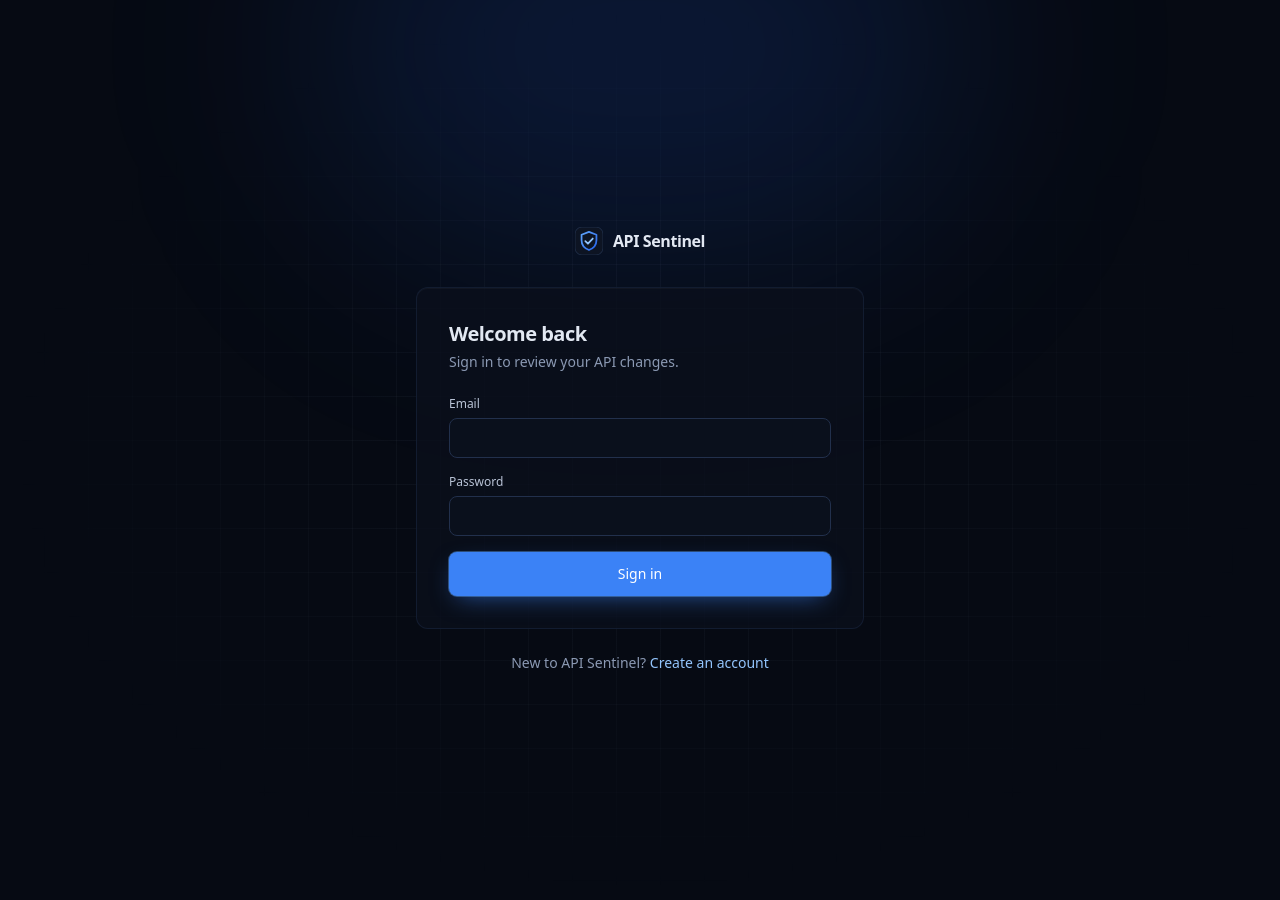
it: authentication flow › logs in, stores the session in sessionStorage and shows the dashboard
Step 1. Type " ada@example.com " into the field labelled "Email" → (640,438), box [449, 418, 831, 458]
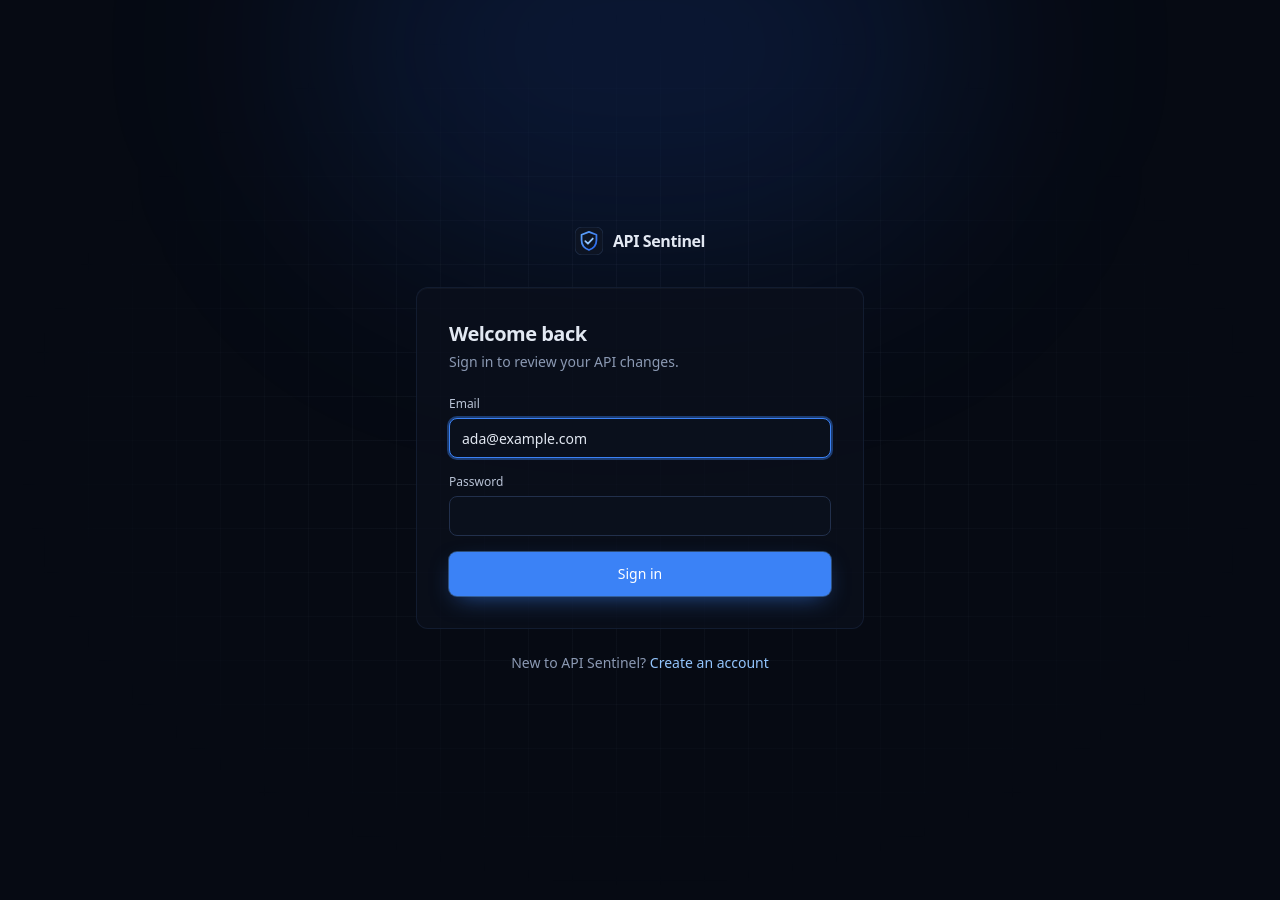
Step 2. Type "Correct-horse-9" into the password field labelled "Password" → (640,516), box [449, 496, 831, 536]
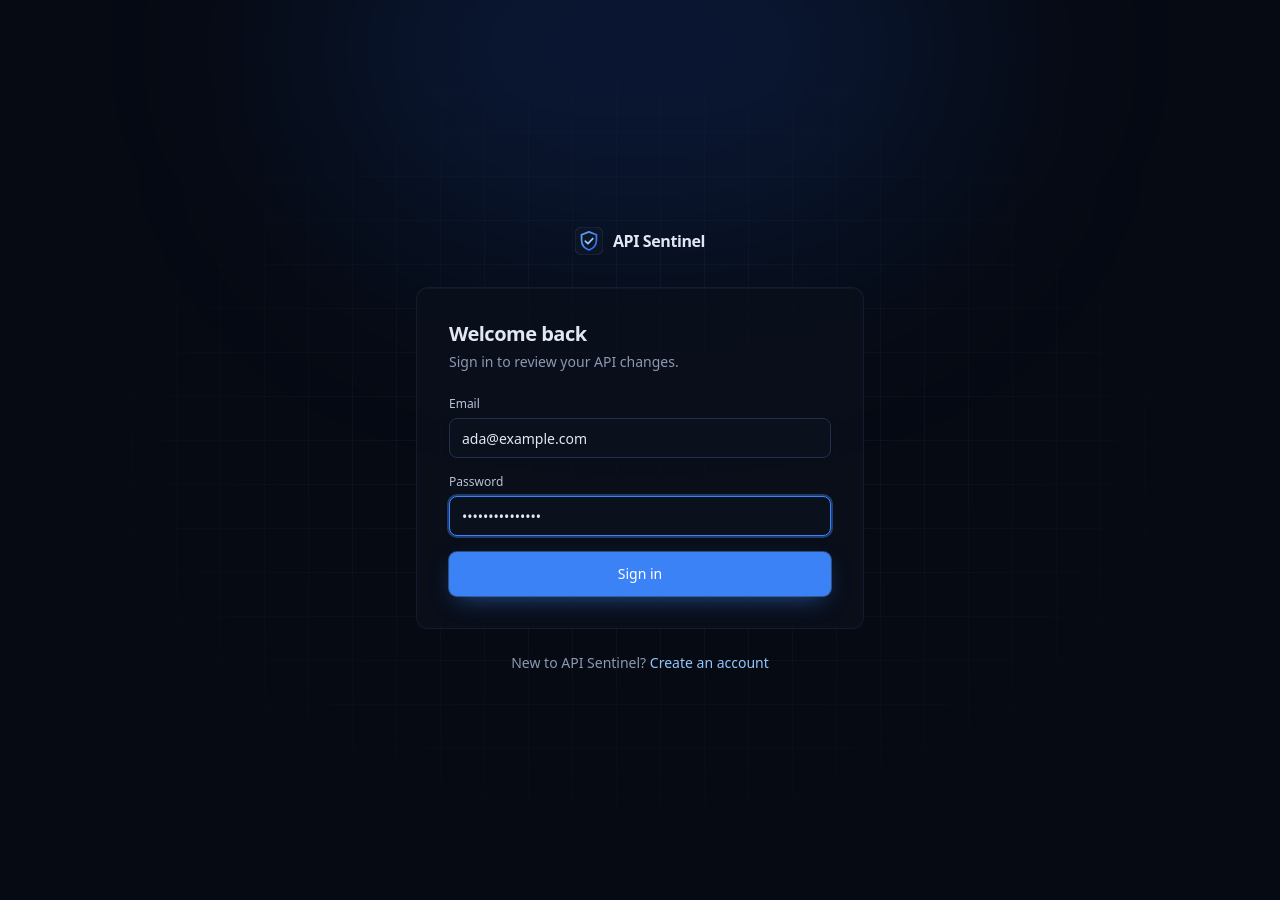
Step 3. Click the button "Sign in" → (640,574), box [449, 552, 831, 596]
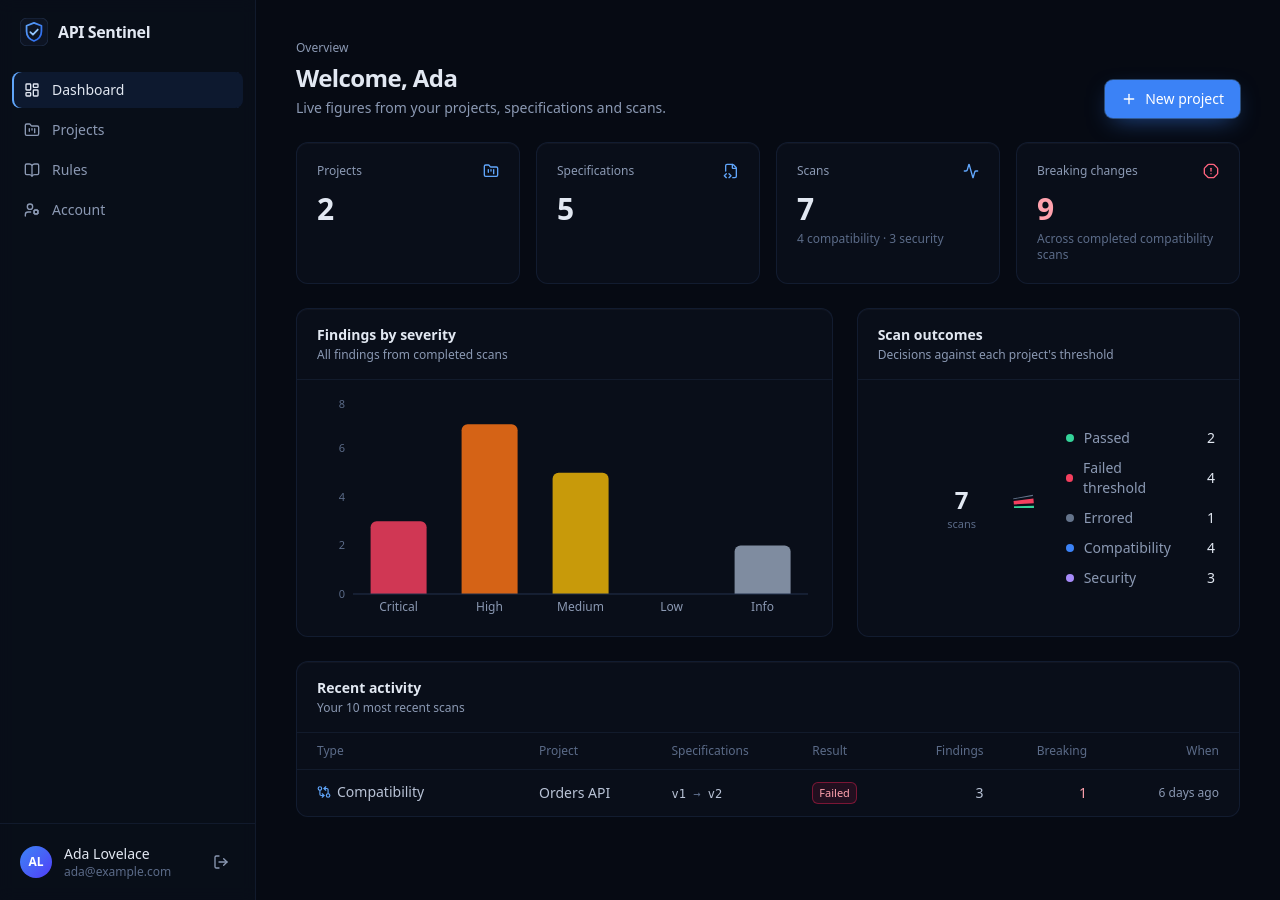
Check: the heading "Welcome, Ada" is shown, box [296, 61, 457, 94]
Check: the text "4 compatibility · 3 security" is shown, box [797, 230, 944, 247]
